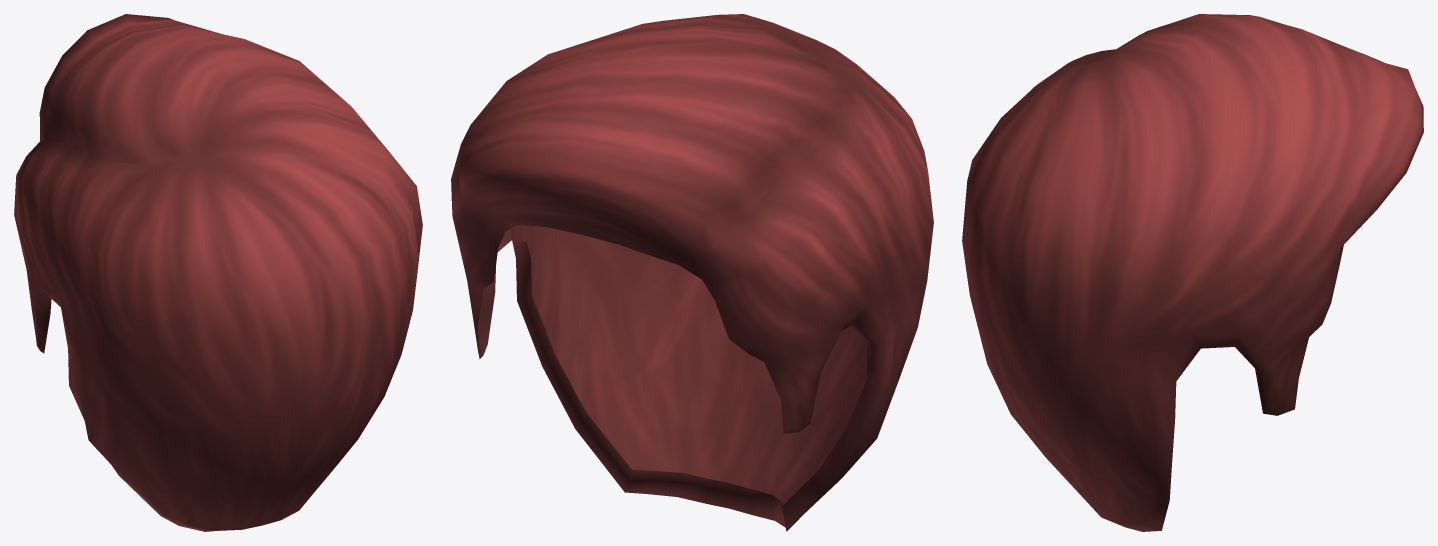
File: Hair_Male_002_textured_red.glb
The picture shows the model from 3 angles, left to right: view 1: azimuth 30°, elevation 25°; view 2: azimuth 150°, elevation 25°; view 3: azimuth 270°, elevation 25°; orthographic projection. The views are drawn at different scales.
Visible parts, largest first — view 1: Hair_Male_002; view 2: Hair_Male_002; view 3: Hair_Male_002.
Boxes of the visible parts, bbox=[...] form: Hair_Male_002: bbox=[14, 14, 422, 531]; Hair_Male_002: bbox=[451, 14, 933, 531]; Hair_Male_002: bbox=[962, 14, 1423, 531].
Bounding box in the file's own units: 0.1882 × 0.2415 × 0.2192.
1 material, 1 textured.
